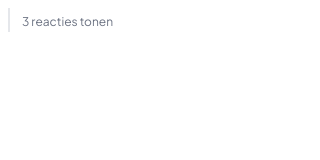
Scenario: reacties op notities › meer dan 2 reacties zijn ingeklapt
Click the button "3 reacties tonen": (68, 22) [22,14,113,30]
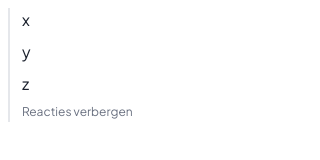
expect the text "z" is shown: met, box [22,73,29,94]
